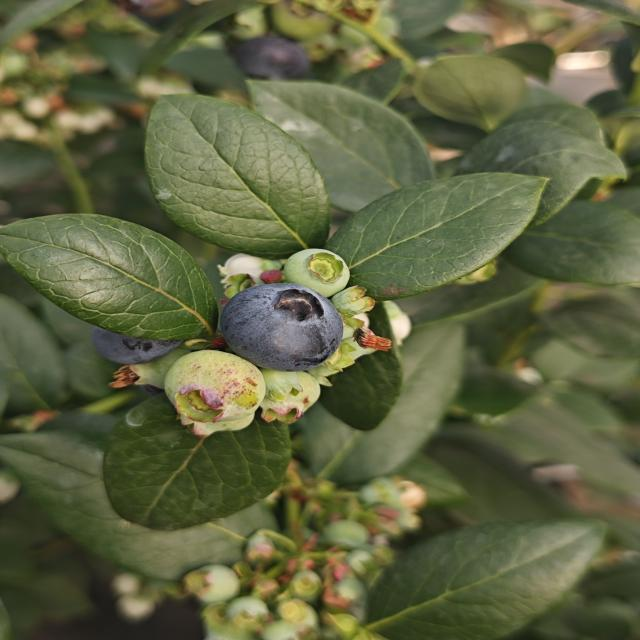ripe: (217, 280, 350, 376), (84, 303, 199, 369), (208, 28, 326, 82)
